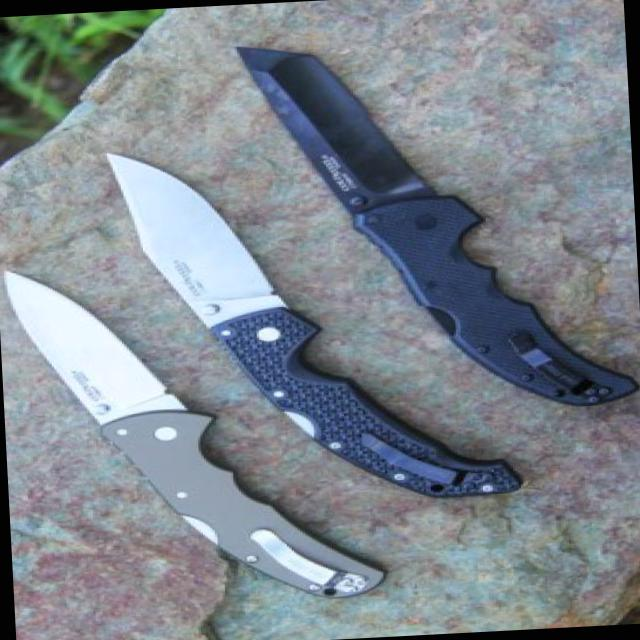knife: (223, 31, 440, 226), (98, 142, 290, 340)
